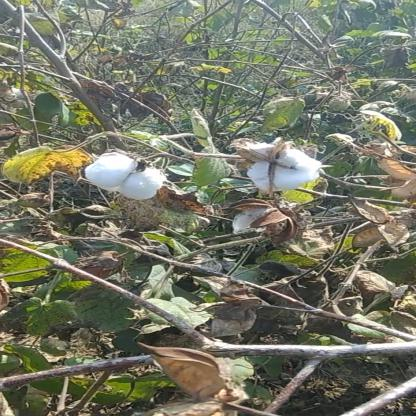cotton_ready: (80, 143, 183, 208), (231, 136, 329, 197)
